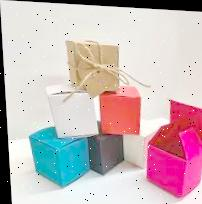cube: (27, 125, 90, 188), (142, 139, 202, 198), (45, 80, 98, 137), (67, 40, 121, 93), (96, 83, 144, 134)
